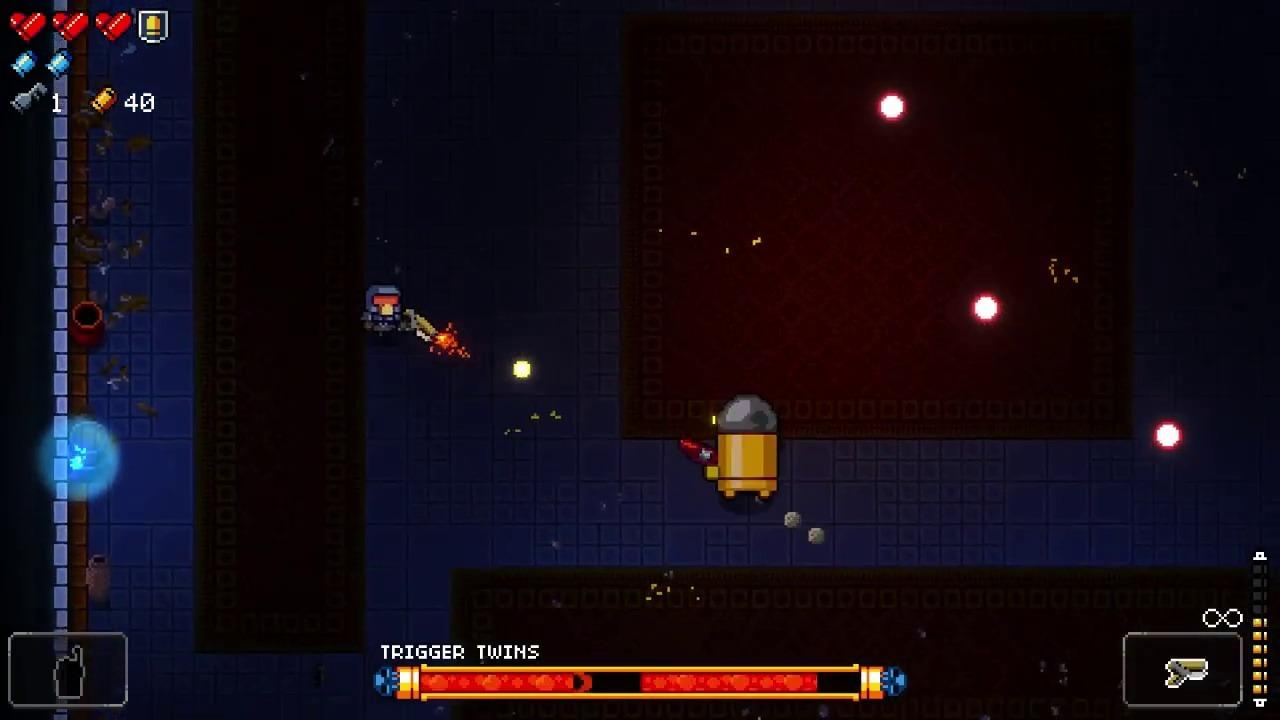boss_shades: (716, 395, 781, 501)
bullet: (1151, 419, 1186, 455), (972, 296, 1004, 330), (877, 93, 907, 126)
player: (362, 285, 403, 339)
